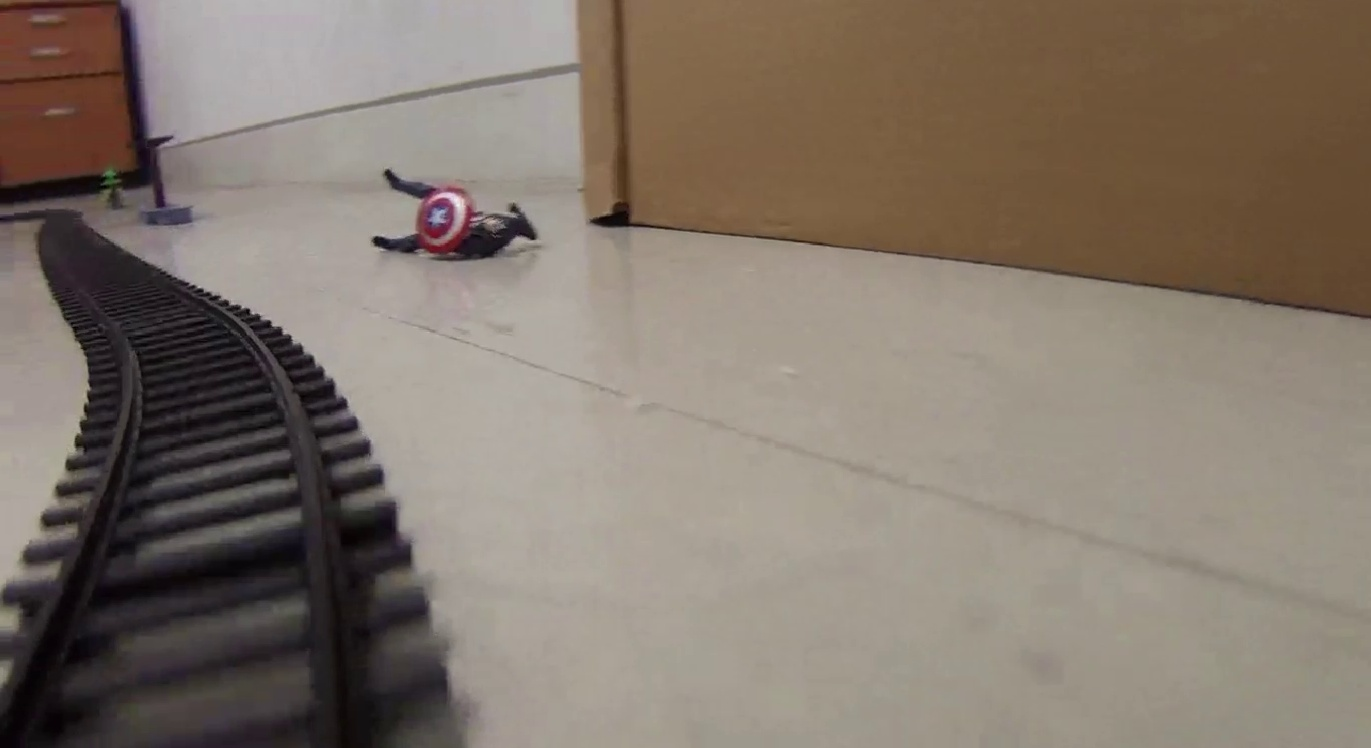people: (372, 168, 540, 258)
